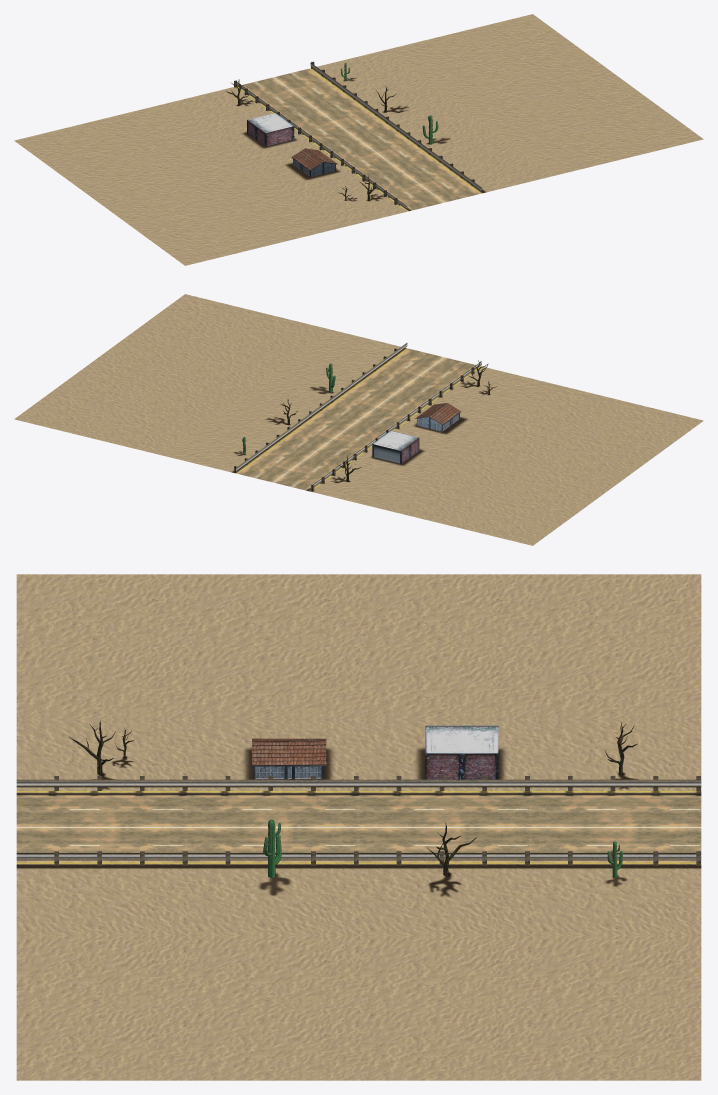
3 renders of one model, top to bottom at view 1: azimuth 30°, elevation 25°; view 2: azimuth 150°, elevation 25°; view 3: azimuth 270°, elevation 25°, orthographic. The views are drawn at different scales.
Parts seen in each view (by area): view 1: scene5, road013, Box017; view 2: scene5, road013, Box017; view 3: scene5, road013, Box017, Box016, Box019.
Part boxes in pixels (x1,y1,x2,y2): scene5: [14, 14, 703, 265]; road013: [234, 61, 481, 211]; Box017: [247, 113, 337, 177]; scene5: [14, 294, 703, 545]; road013: [234, 343, 481, 491]; Box017: [372, 403, 461, 464]; scene5: [16, 574, 701, 1080]; road013: [16, 776, 701, 865]; Box017: [252, 725, 498, 779]; Box016: [69, 721, 637, 875]; Box019: [263, 819, 622, 877].
Bounding box in the file's own units: 140 × 8.41 × 80.
